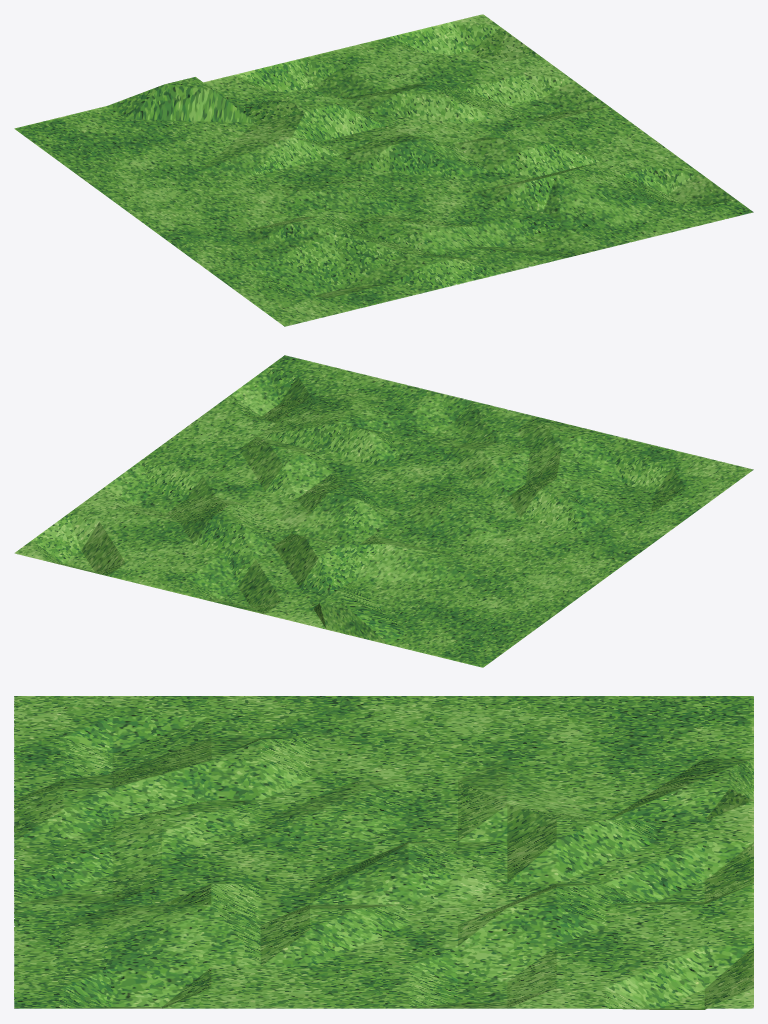
The model's file is TentativeStage.obj.
The picture shows the model from 3 angles, top to bottom: view 1: azimuth 30°, elevation 25°; view 2: azimuth 150°, elevation 25°; view 3: azimuth 270°, elevation 25°; orthographic projection. The views are drawn at different scales.
Parts seen in each view (by area): view 1: 平面; view 2: 平面; view 3: 平面.
Boxes of the visible parts, <box> form: 平面: <box>14,14,753,326</box>; 平面: <box>14,355,753,667</box>; 平面: <box>14,696,753,1009</box>.
Bounding box in the file's own units: 150 × 9.93 × 150.
1 material, 1 textured.
